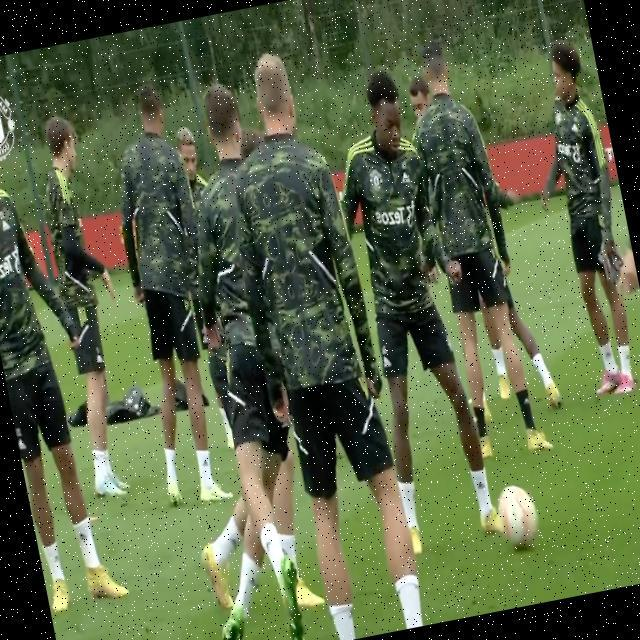Adidas: (399, 168, 412, 187), (76, 528, 89, 544), (475, 476, 486, 493), (0, 216, 11, 233), (381, 355, 392, 371)
